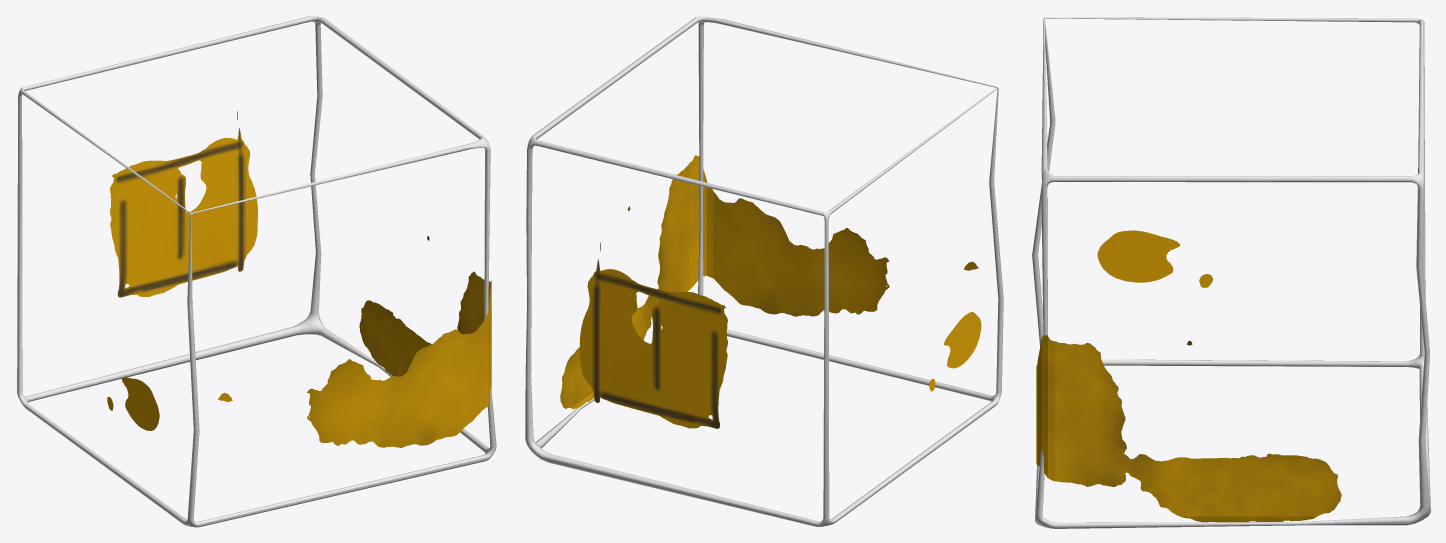
File: TestCube.fbx
3 views of the same model, side by side, from view 1: azimuth 30°, elevation 25°; view 2: azimuth 150°, elevation 25°; view 3: azimuth 270°, elevation 25° (orthographic). The views are drawn at different scales.
Parts seen in each view (by area): view 1: Shell, Mesh; view 2: Shell, Mesh; view 3: Shell, Mesh.
Boxes of the visible parts, <box> form: Shell: <box>107,111,491,447</box>; Mesh: <box>17,16,496,527</box>; Shell: <box>560,155,981,428</box>; Mesh: <box>525,16,1003,526</box>; Shell: <box>1036,230,1341,522</box>; Mesh: <box>1032,17,1430,528</box>.
Bounding box in the file's own units: 210 × 209 × 211.
